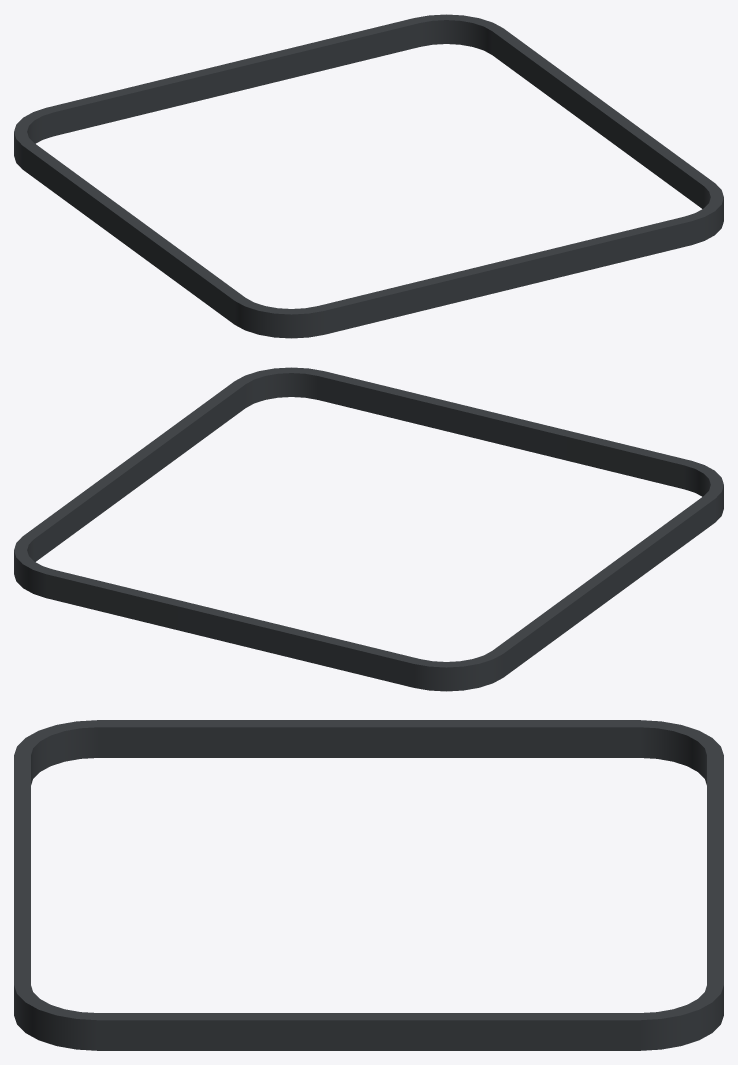
Rendered from BuildingGroundRim.fbx.
The picture shows the model from 3 angles, top to bottom: view 1: azimuth 30°, elevation 25°; view 2: azimuth 150°, elevation 25°; view 3: azimuth 270°, elevation 25°; orthographic projection. The views are drawn at different scales.
Parts seen in each view (by area): view 1: BuildingGroundRim; view 2: BuildingGroundRim; view 3: BuildingGroundRim.
Boxes of the visible parts, x1=… form: BuildingGroundRim: x1=14, y1=14, x2=723, y2=338; BuildingGroundRim: x1=14, y1=367, x2=723, y2=691; BuildingGroundRim: x1=14, y1=720, x2=723, y2=1050.
Size of the model in its own units: 1050 by 50 by 1050.
